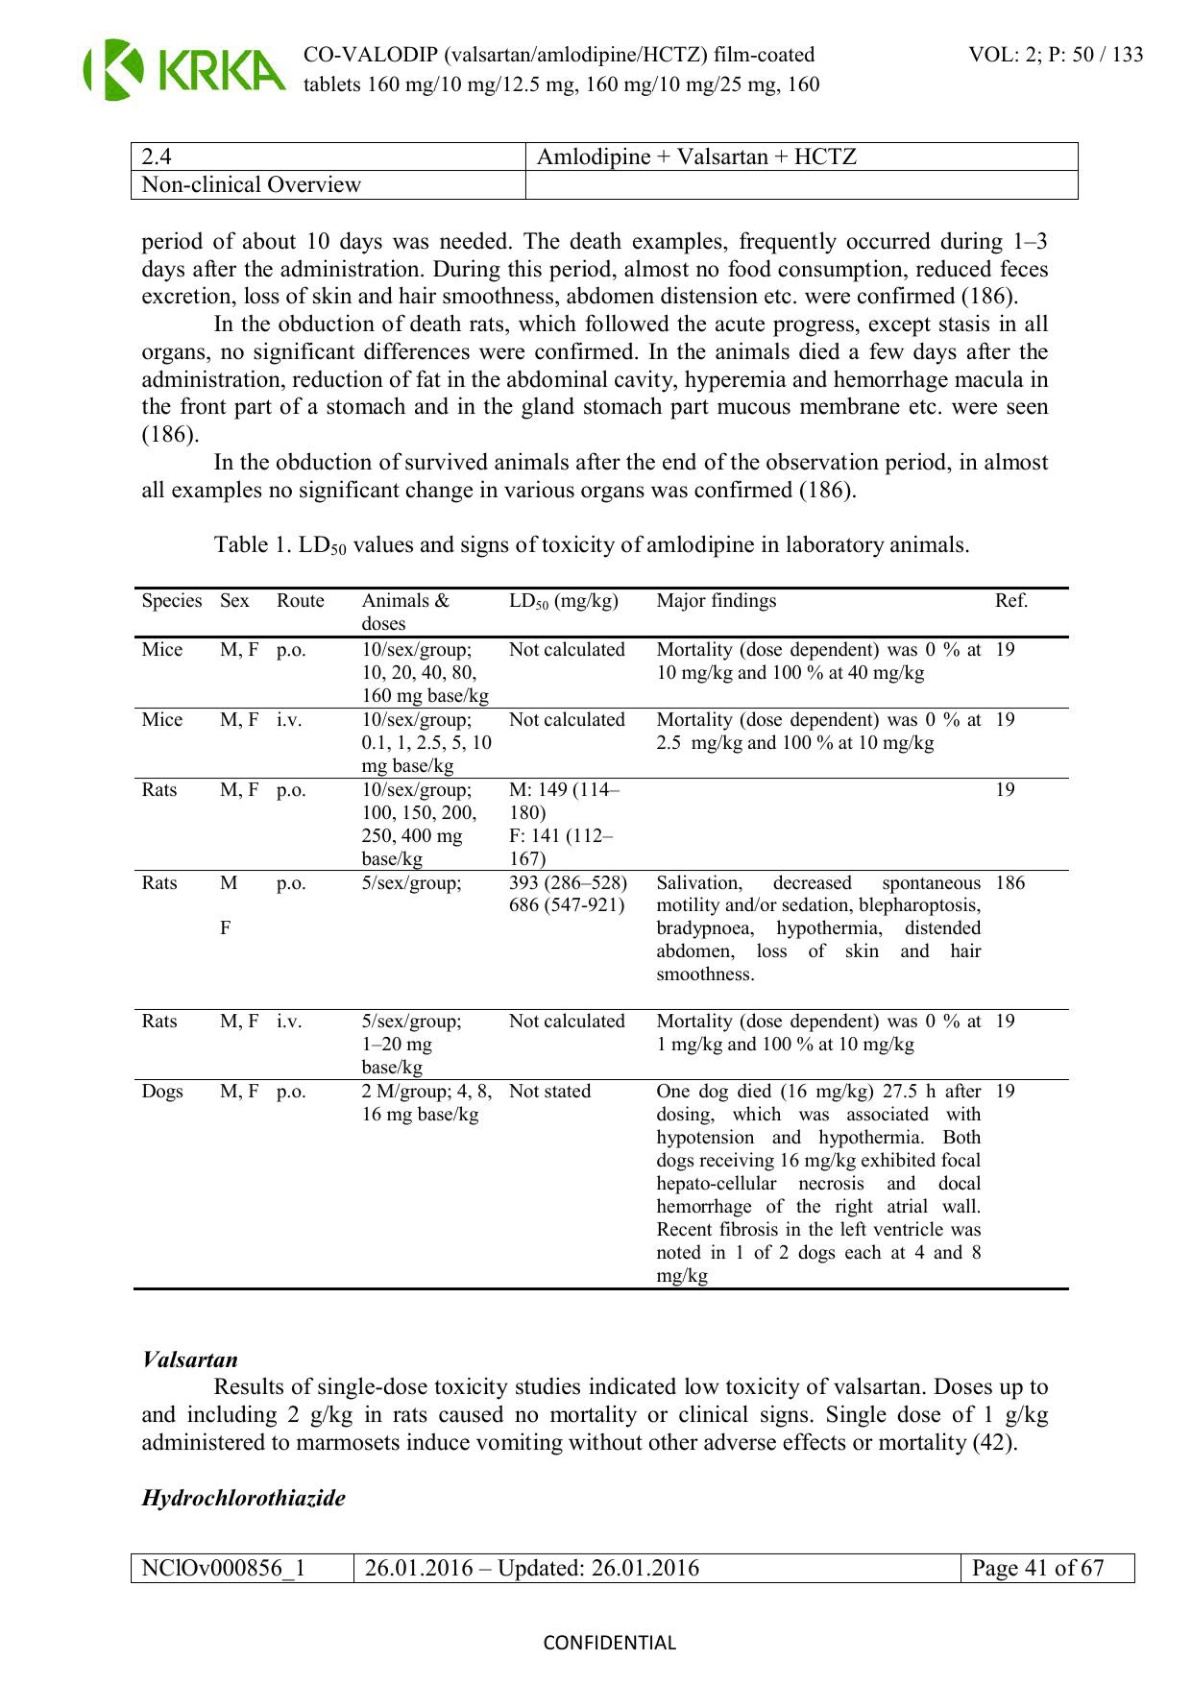full_lined: (128, 141, 1080, 201), (126, 1551, 1137, 1583)
partial_lined: (133, 585, 1069, 1293)
